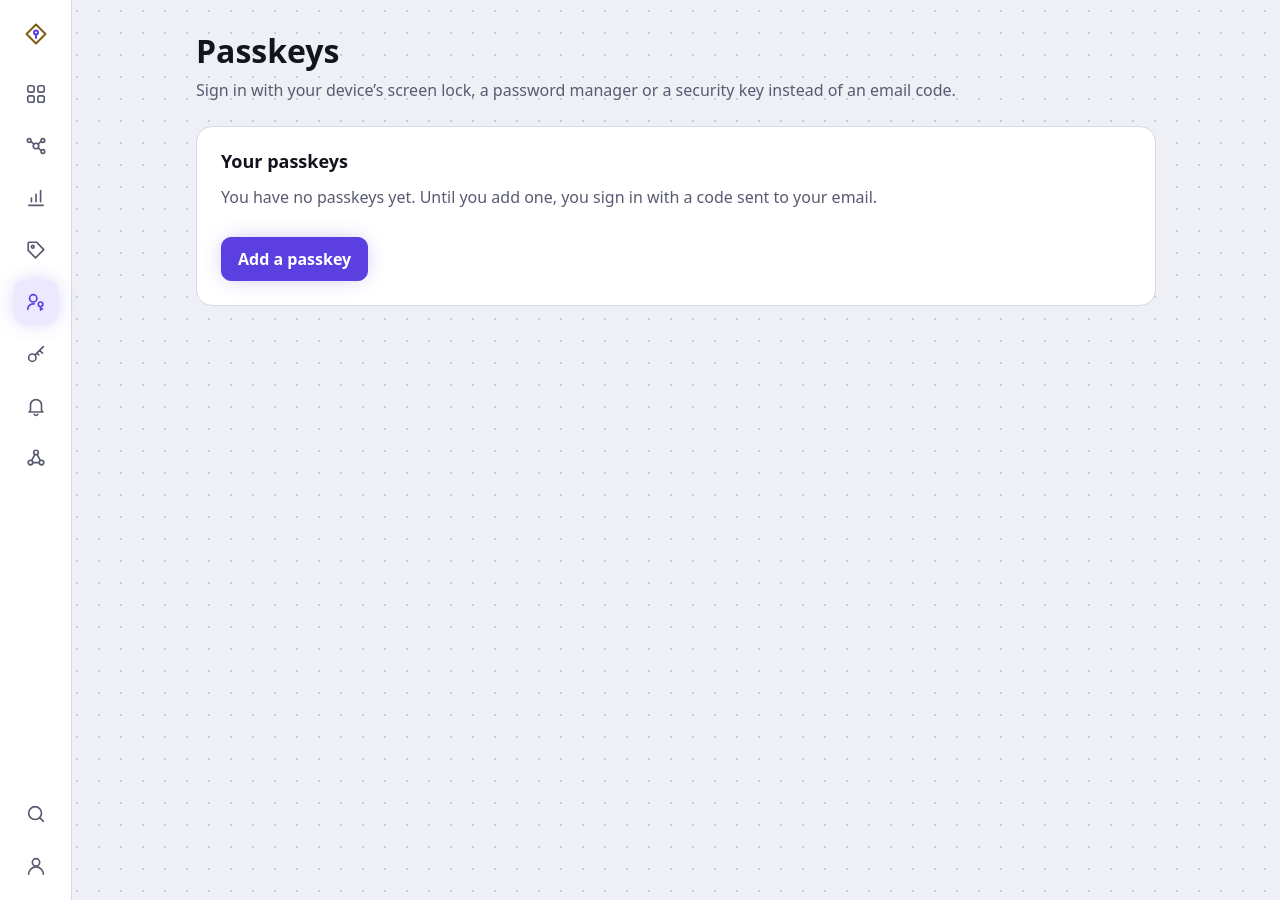
Scenario: passkeys page › shows the empty state and the limit
This screenshot has width=1280, height=900.
Expected: the text "You have no passkeys yet" is shown, [221,186,877,208]
Click the button "Add a passkey".
click(295, 259)  # box [221,237,368,281]
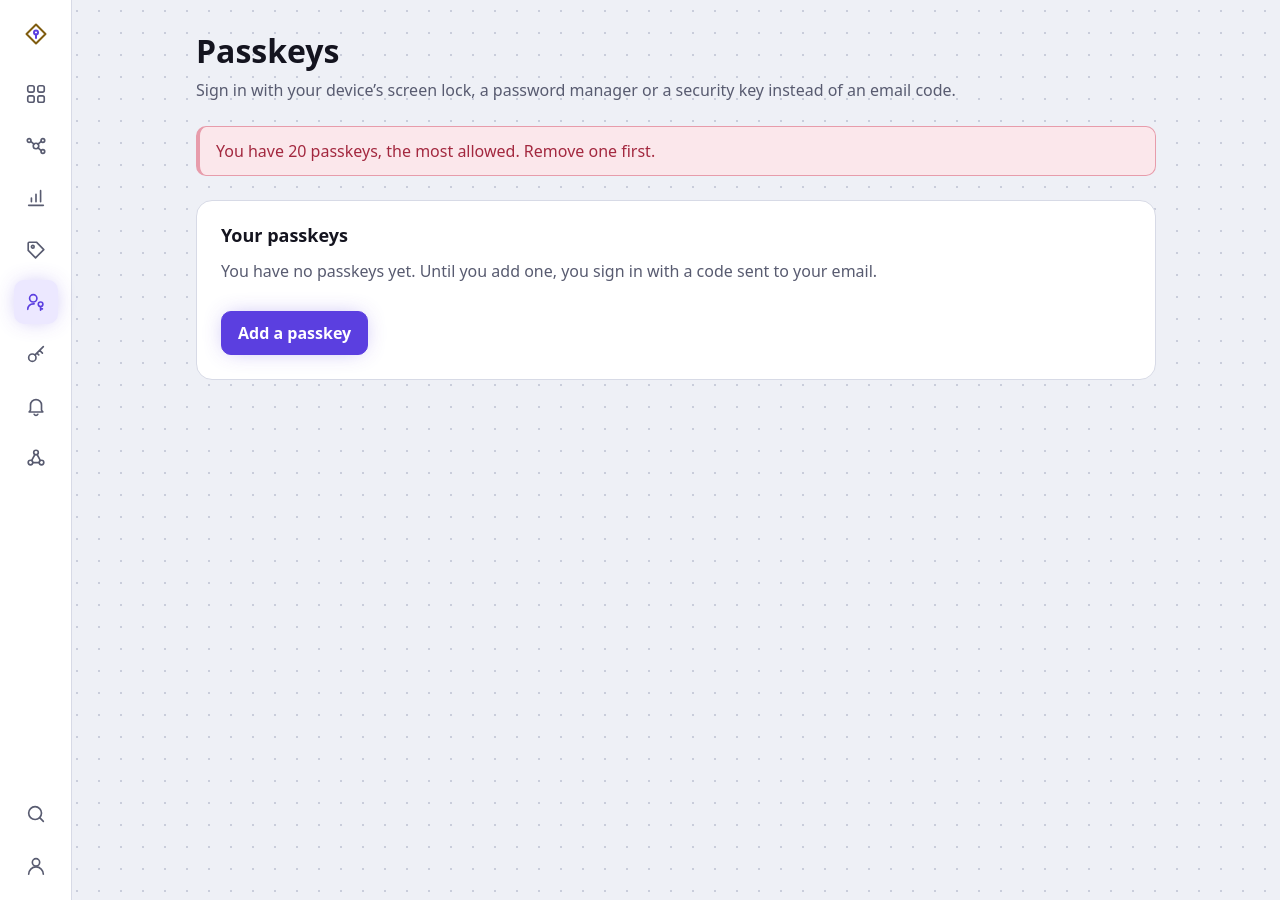
Now the text "You have 20 passkeys, the most allowed. Remove one first." is shown, box [196,126,1156,176]
